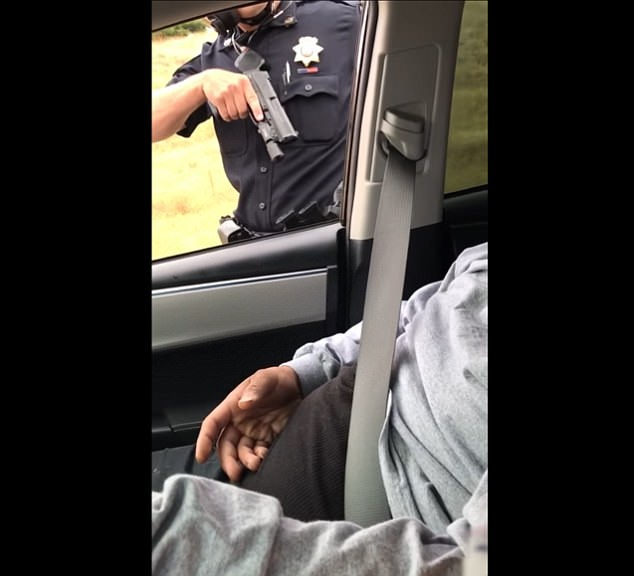pistol: (238, 73, 307, 168)
